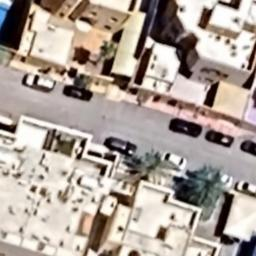sedan: (156, 150, 189, 172)
unknown: (166, 114, 204, 140), (205, 124, 238, 150), (62, 82, 96, 104), (240, 136, 256, 156)
van: (18, 68, 58, 96), (98, 131, 140, 157)
